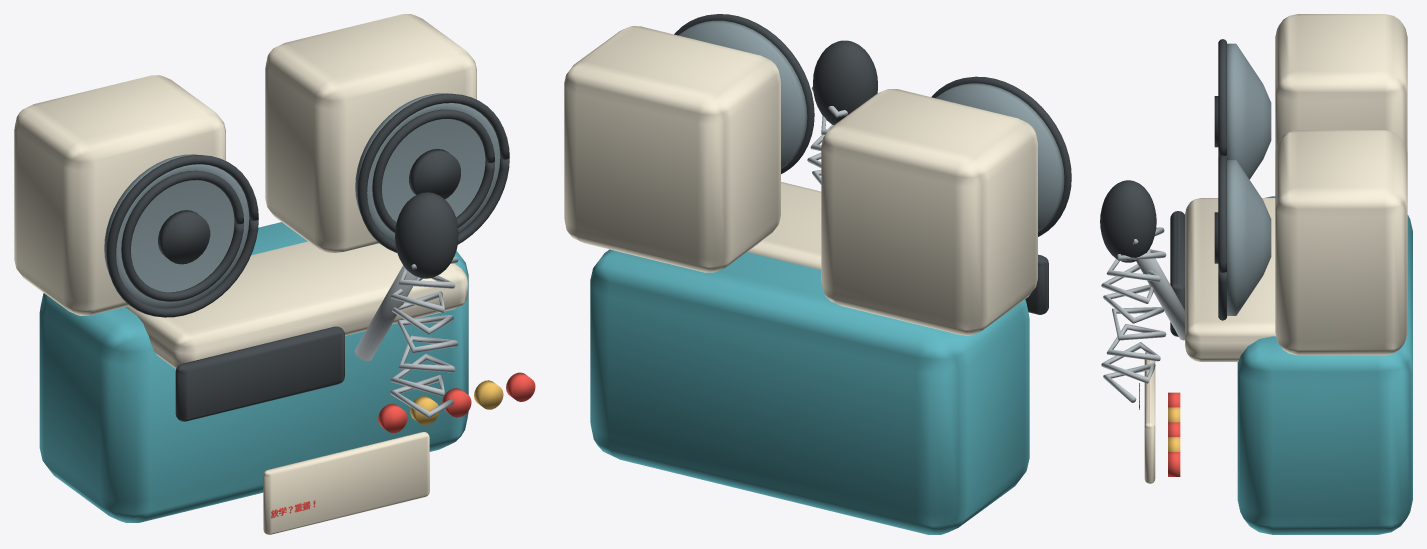
The model's file is T06_Broken_School_Announcement_System.glb.
3 renders of one model, left to right at view 1: azimuth 30°, elevation 25°; view 2: azimuth 150°, elevation 25°; view 3: azimuth 270°, elevation 25°, orthographic. The views are drawn at different scales.
Parts seen in each view (by area): view 1: T06_LOUDSPEAKER_ACTOR | Warm cream broadcast console housing, T06 real dual-broadcast control console, T06_LOUDSPEAKER_ACTOR | Dark speaker resonant cone cavity, T06 hand-polished broadcast radio top panel, T06_LOUDSPEAKER_ACTOR | Large metallic gray loudspeaker diap, T06 actual mistaken school-announcement paper ticket, T06 black rectangular tuning frequency display, T06_MICROPHONE_ACTOR | Brushed metal real internal speaker m, T06 vintage foam microphone capsule, T06_CONTROL_CONSOLE_ACTOR | School broadcast red emergency b, T06_CONTROL_CONSOLE_ACTOR | Radio station frequency needle; view 2: T06 real dual-broadcast control console, T06_LOUDSPEAKER_ACTOR | Warm cream broadcast console housing, T06_LOUDSPEAKER_ACTOR | Large metallic gray loudspeaker diap, T06 vintage foam microphone capsule, T06 hand-polished broadcast radio top panel, T06_LOUDSPEAKER_ACTOR | Dark speaker resonant cone cavity, T06 black rectangular tuning frequency display, T06_MICROPHONE_ACTOR | Brushed metal real internal speaker m; view 3: T06_LOUDSPEAKER_ACTOR | Warm cream broadcast console housing, T06 real dual-broadcast control console, T06_LOUDSPEAKER_ACTOR | Large metallic gray loudspeaker diap, T06 hand-polished broadcast radio top panel, T06_MICROPHONE_ACTOR | Brushed metal real internal speaker m, T06 vintage foam microphone capsule, T06_LOUDSPEAKER_ACTOR | Dark speaker resonant cone cavity, T06 actual mistaken school-announcement paper ticket, T06 black rectangular tuning frequency display, T06_CONTROL_CONSOLE_ACTOR | School broadcast red emergency b, T06_CONTROL_CONSOLE_ACTOR | Radio station frequency needle.
Boxes of the visible parts, left/top/right/bottom form: T06_LOUDSPEAKER_ACTOR | Warm cream broadcast console housing: left=14, top=14, right=476, bottom=315; T06 real dual-broadcast control console: left=39, top=222, right=468, bottom=522; T06_LOUDSPEAKER_ACTOR | Dark speaker resonant cone cavity: left=106, top=93, right=509, bottom=317; T06 hand-polished broadcast radio top panel: left=125, top=241, right=467, bottom=368; T06_LOUDSPEAKER_ACTOR | Large metallic gray loudspeaker diap: left=104, top=93, right=500, bottom=308; T06 actual mistaken school-announcement paper ticket: left=263, top=432, right=429, bottom=534; T06 black rectangular tuning frequency display: left=175, top=326, right=344, bottom=421; T06_MICROPHONE_ACTOR | Brushed metal real internal speaker m: left=354, top=256, right=458, bottom=418; T06 vintage foam microphone capsule: left=395, top=192, right=458, bottom=278; T06_CONTROL_CONSOLE_ACTOR | School broadcast red emergency b: left=271, top=372, right=535, bottom=518; T06_CONTROL_CONSOLE_ACTOR | Radio station frequency needle: left=410, top=380, right=503, bottom=425; T06 real dual-broadcast control console: left=590, top=249, right=1029, bottom=534; T06_LOUDSPEAKER_ACTOR | Warm cream broadcast console housing: left=564, top=26, right=1037, bottom=335; T06_LOUDSPEAKER_ACTOR | Large metallic gray loudspeaker diap: left=678, top=20, right=1064, bottom=231; T06 vintage foam microphone capsule: left=813, top=40, right=877, bottom=125; T06 hand-polished broadcast radio top panel: left=747, top=182, right=821, bottom=269; T06_LOUDSPEAKER_ACTOR | Dark speaker resonant cone cavity: left=674, top=14, right=1071, bottom=236; T06 black rectangular tuning frequency display: left=1025, top=254, right=1048, bottom=314; T06_MICROPHONE_ACTOR | Brushed metal real internal speaker m: left=807, top=86, right=847, bottom=184; T06_LOUDSPEAKER_ACTOR | Warm cream broadcast console housing: left=1275, top=14, right=1407, bottom=355; T06 real dual-broadcast control console: left=1237, top=196, right=1412, bottom=534; T06_LOUDSPEAKER_ACTOR | Large metallic gray loudspeaker diap: left=1227, top=43, right=1271, bottom=315; T06 hand-polished broadcast radio top panel: left=1185, top=198, right=1275, bottom=361; T06_MICROPHONE_ACTOR | Brushed metal real internal speaker m: left=1101, top=227, right=1184, bottom=402; T06 vintage foam microphone capsule: left=1100, top=180, right=1156, bottom=262; T06_LOUDSPEAKER_ACTOR | Dark speaker resonant cone cavity: left=1214, top=39, right=1226, bottom=320; T06 actual mistaken school-announcement paper ticket: left=1144, top=352, right=1155, bottom=483; T06 black rectangular tuning frequency display: left=1170, top=211, right=1184, bottom=336; T06_CONTROL_CONSOLE_ACTOR | School broadcast red emergency b: left=1139, top=383, right=1180, bottom=476; T06_CONTROL_CONSOLE_ACTOR | Radio station frequency needle: left=1168, top=407, right=1180, bottom=451.
Size of the model in its own units: 1.67 by 1.47 by 1.16.
